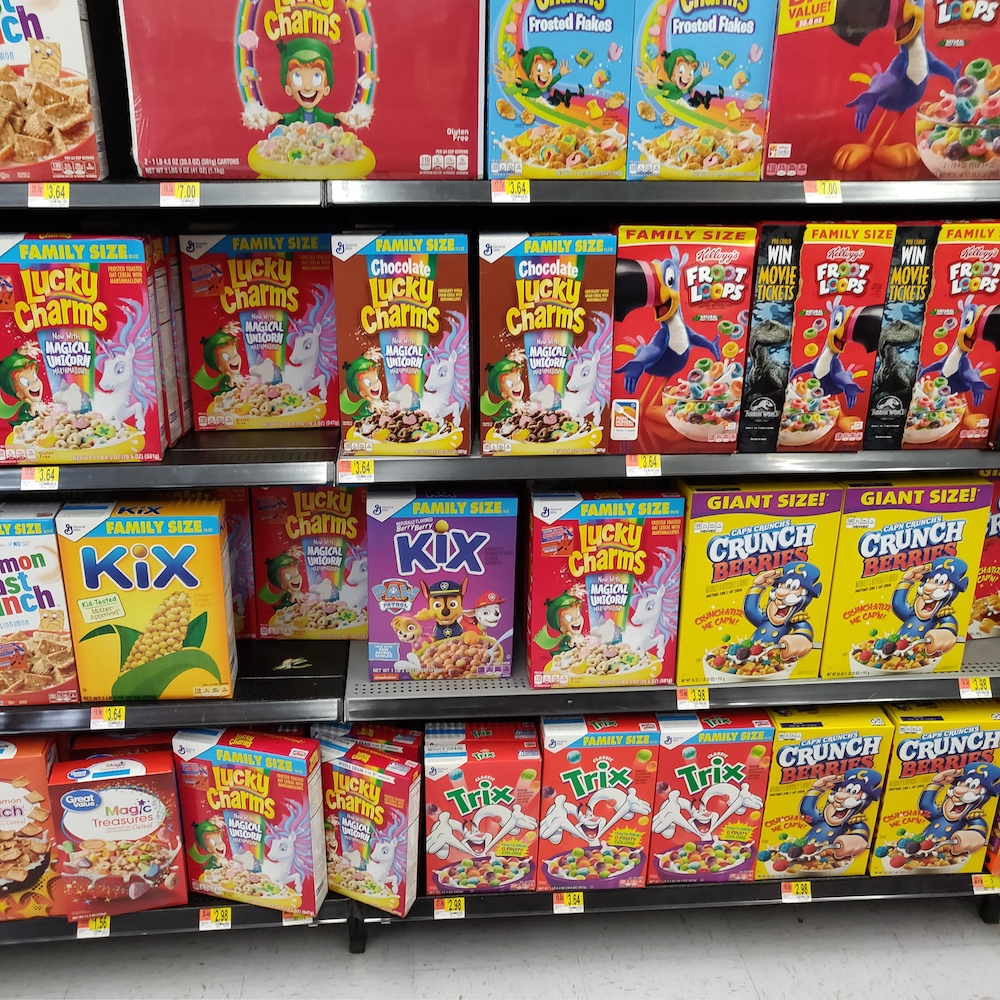Kix Berry -568919964: (369, 504, 522, 681)
Kix Crispy Corn-550051312: (57, 524, 244, 700)
